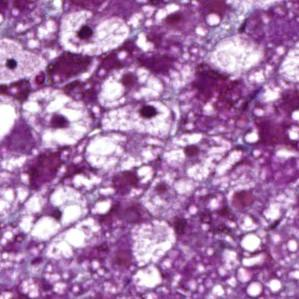ballooning: (18, 84, 95, 154), (56, 9, 133, 58), (99, 98, 176, 142), (96, 66, 163, 111)
